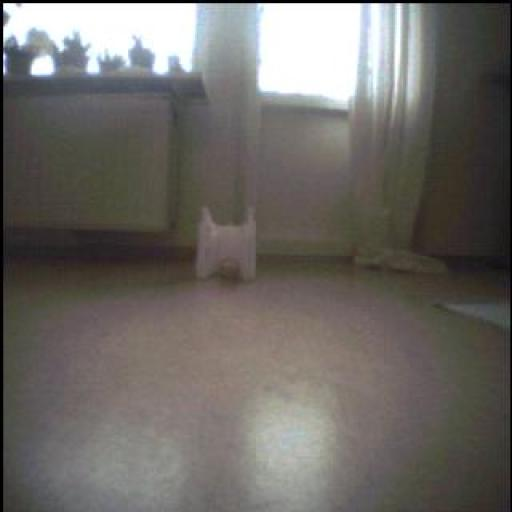Basket: (214, 255, 243, 286)
